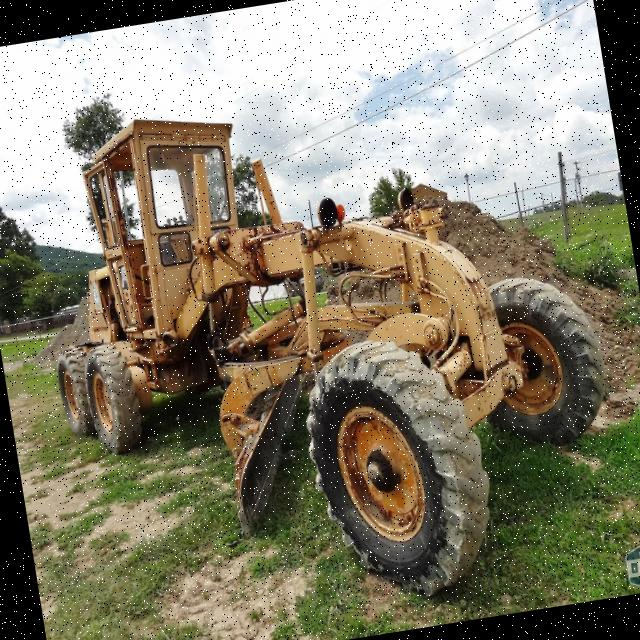Grader: (8, 28, 640, 640)
